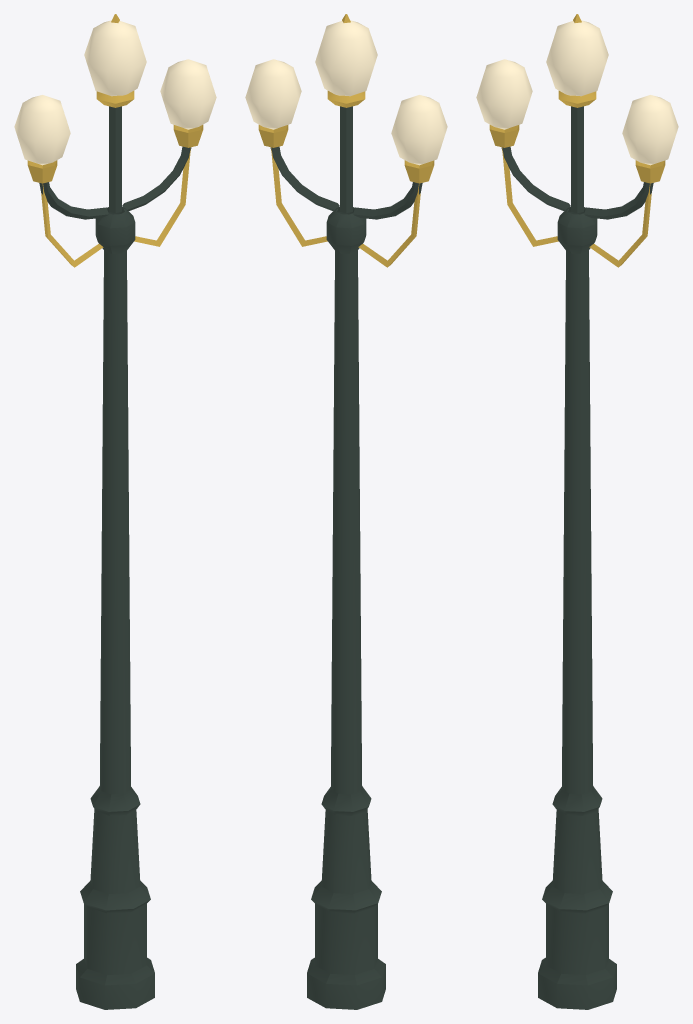
File: sf_streetlamp.glb
3 views of the same model, side by side, from view 1: azimuth 30°, elevation 25°; view 2: azimuth 150°, elevation 25°; view 3: azimuth 330°, elevation 25° (orthographic).
Visible parts, largest first — view 1: sf_streetlamp; view 2: sf_streetlamp; view 3: sf_streetlamp.
Boxes of the visible parts, x1,y1,x2,y2 form: sf_streetlamp: [14, 14, 216, 1009]; sf_streetlamp: [245, 14, 447, 1009]; sf_streetlamp: [476, 14, 678, 1009].
Bounding box in the file's own units: 2.1 × 10 × 0.7605.
Materials: 1 (1 with a texture image).
